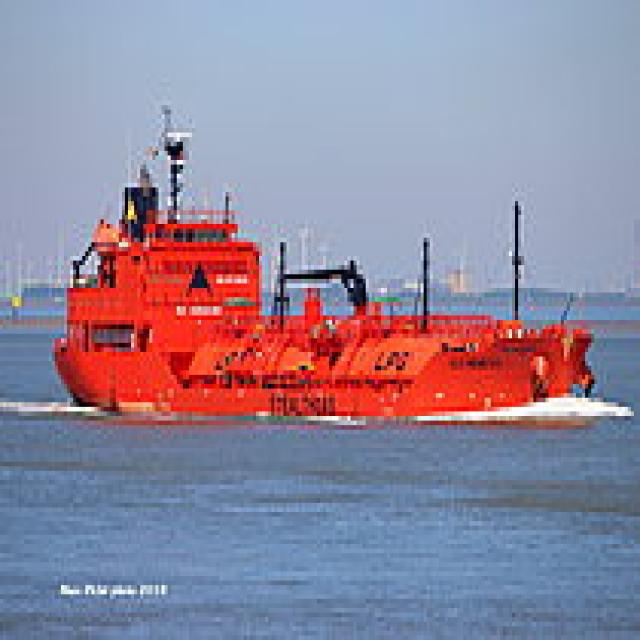Tanker: (46, 101, 597, 425)
